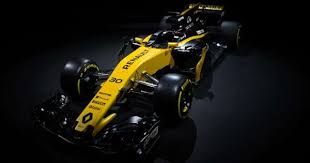FormulaOneCar: (34, 6, 245, 160)
